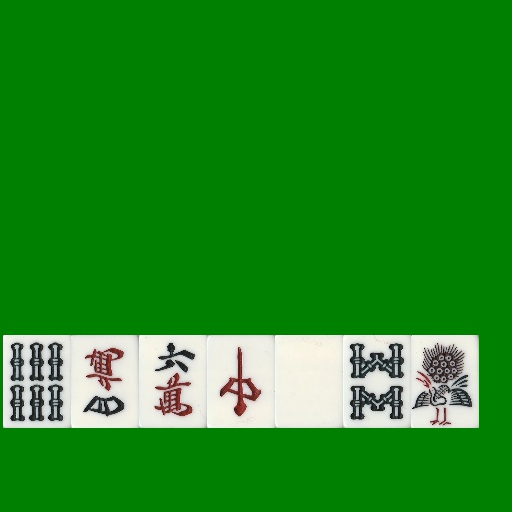1s: (411, 335, 479, 428)
4m: (71, 335, 139, 428)
6m: (139, 335, 207, 428)
6s: (3, 335, 71, 428)
8s: (343, 335, 411, 428)
tyun: (207, 335, 275, 428)
white: (275, 335, 343, 428)
